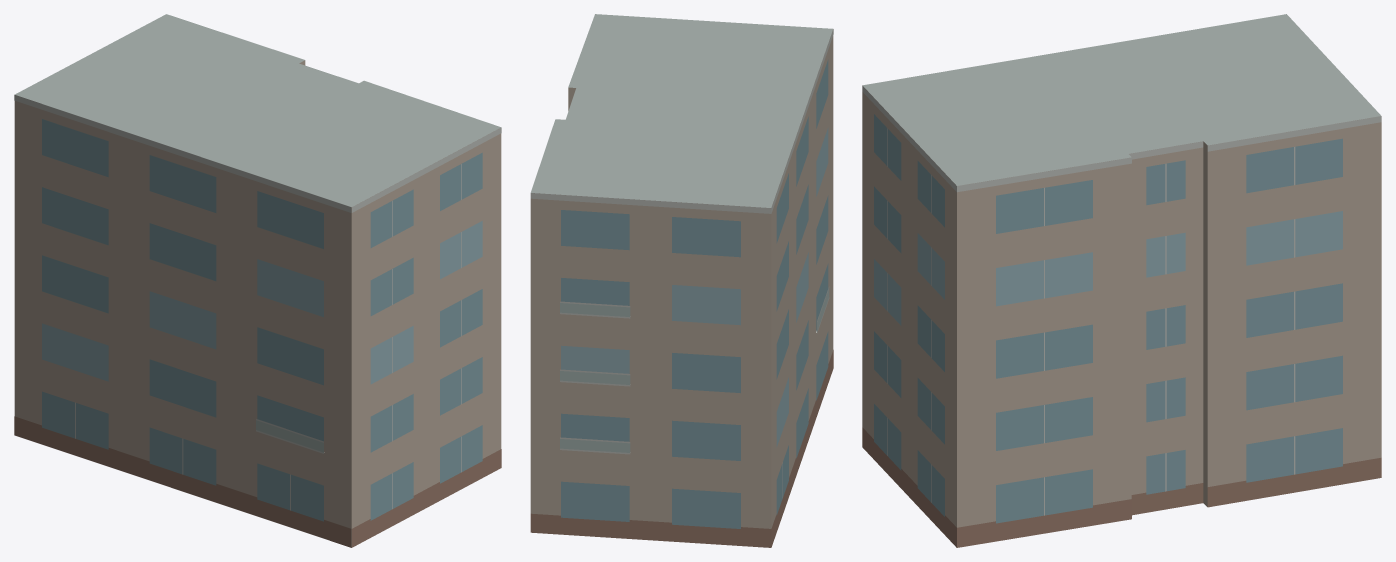
File: survey-upis-32882733.glb
The picture shows the model from 3 angles, left to right: view 1: azimuth 30°, elevation 25°; view 2: azimuth 150°, elevation 25°; view 3: azimuth 270°, elevation 25°; orthographic projection. The views are drawn at different scales.
Parts seen in each view (by area): view 1: survey-upis-32882733.tmp; view 2: survey-upis-32882733.tmp; view 3: survey-upis-32882733.tmp.
Boxes of the visible parts, <box> form: survey-upis-32882733.tmp: <box>14,14,501,547</box>; survey-upis-32882733.tmp: <box>530,14,833,547</box>; survey-upis-32882733.tmp: <box>862,14,1381,547</box>.
Bounding box in the file's own units: 14.49 × 14.2 × 18.48.
